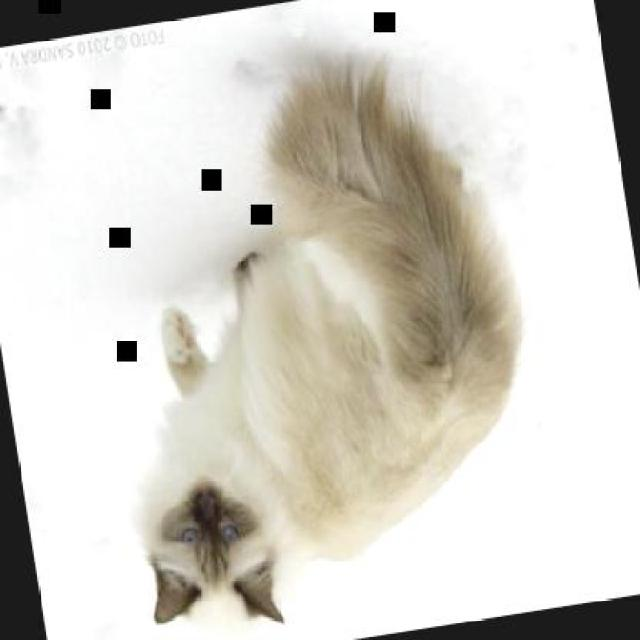cat: (72, 41, 566, 638)
